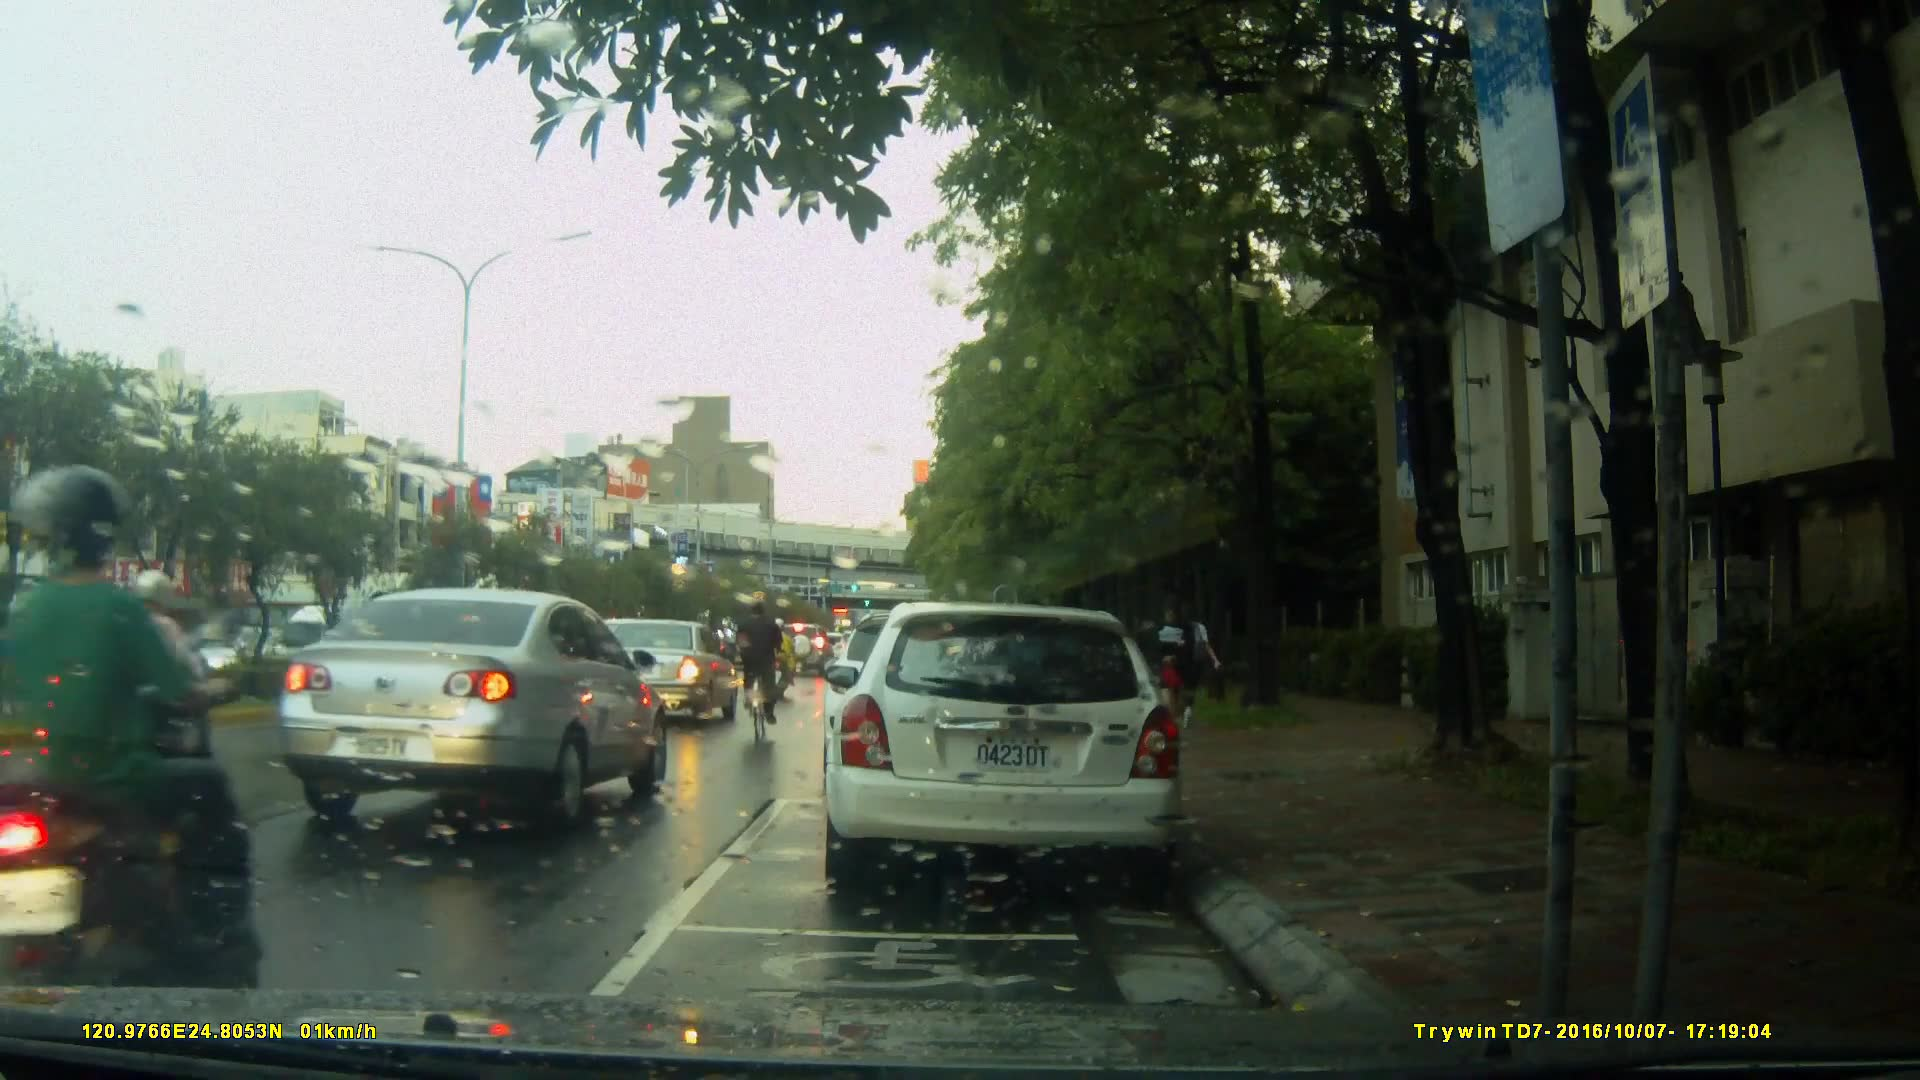pedestrian: (1159, 599, 1210, 734), (1151, 603, 1200, 721)
rider: (6, 466, 256, 1032), (734, 600, 787, 759), (766, 614, 800, 703)
vehicle: (820, 602, 1188, 898), (275, 587, 674, 835), (577, 618, 740, 730), (134, 634, 239, 689)
